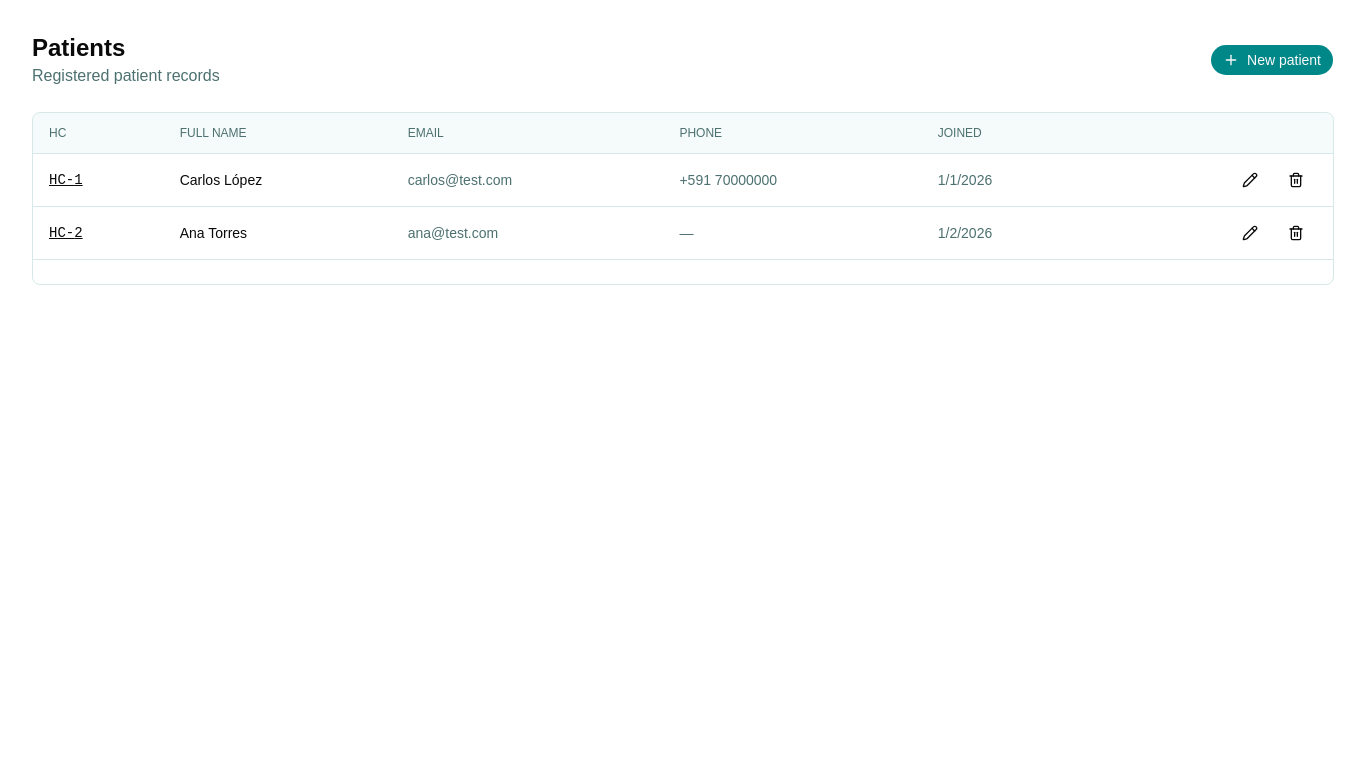
Test: PatientsPage › as admin › opens edit dialog when clicking the Edit button
Check: the text "Carlos López" is shown, box [164, 154, 392, 206]
Click the button with class "lucide-pencil" at (1250, 180), box [1229, 166, 1271, 194]
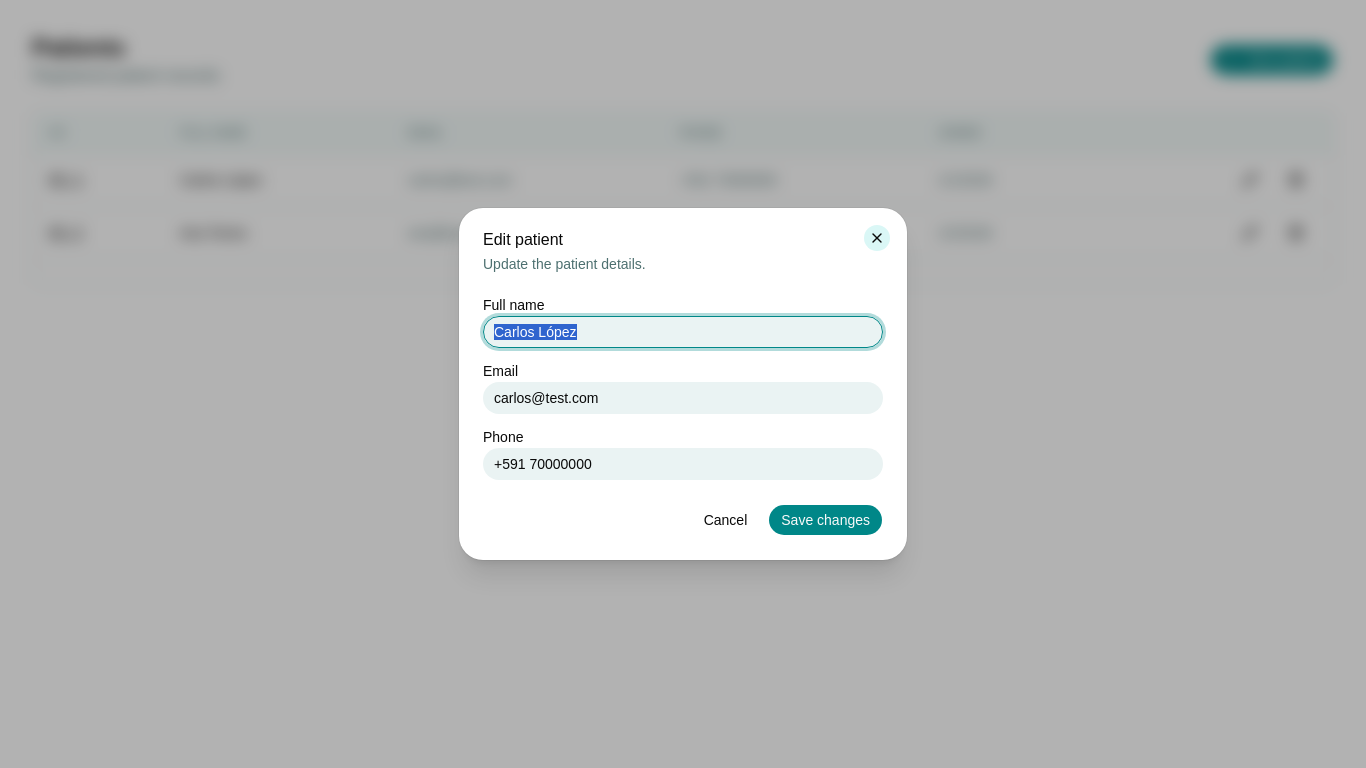
Check: the heading "Edit patient" is shown, box [483, 231, 563, 248]
Check: the field showing "Carlos López" is shown, box [483, 316, 883, 348]
